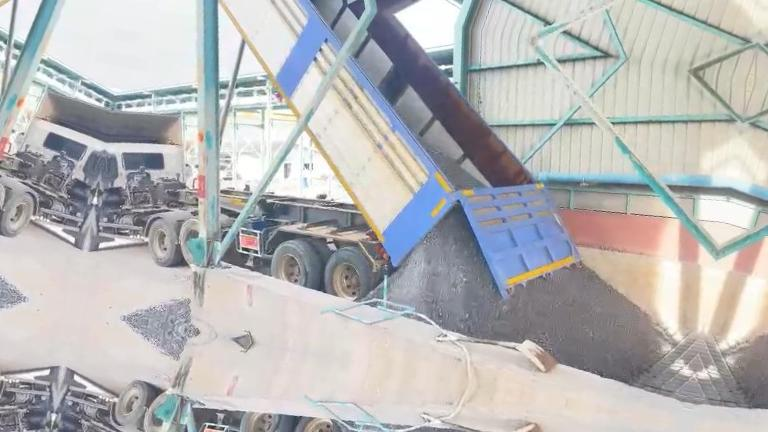gravel: (390, 207, 670, 382), (414, 133, 484, 188), (121, 298, 199, 332)
